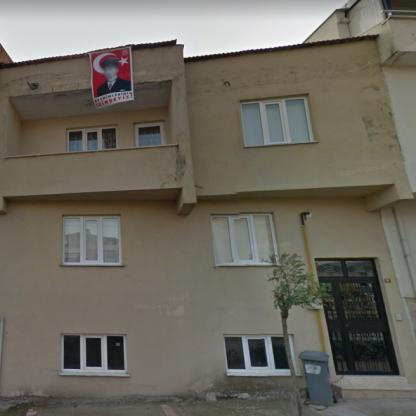door: (319, 278, 399, 376), (134, 122, 166, 146)
window: (240, 96, 314, 147), (212, 214, 277, 263), (63, 216, 121, 263), (61, 335, 126, 372), (224, 335, 289, 372), (67, 126, 116, 152), (316, 258, 376, 276)
